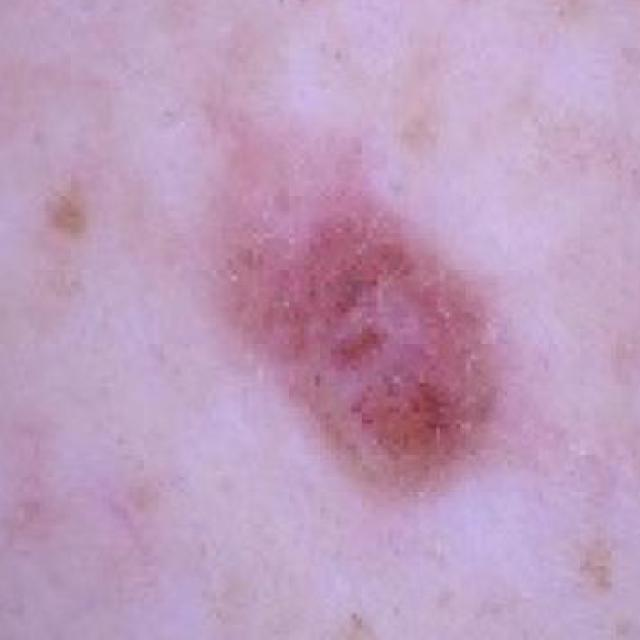BCC: (0, 8, 553, 526)
